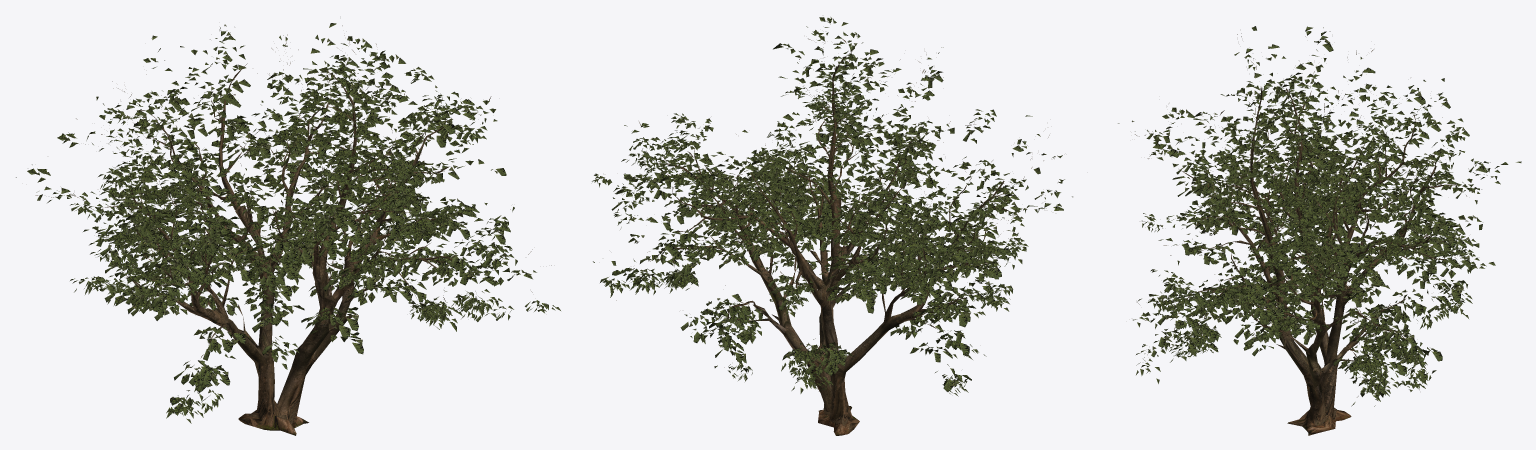
File: jacaranda_tree-far.gltf
3 views of the same model, side by side, from view 1: azimuth 30°, elevation 25°; view 2: azimuth 150°, elevation 25°; view 3: azimuth 270°, elevation 25° (orthographic). The views are drawn at different scales.
Parts seen in each view (by area): view 1: jacaranda_tree_LOD0; view 2: jacaranda_tree_LOD0; view 3: jacaranda_tree_LOD0.
Part boxes in pixels (x1,y1,x2,y2): jacaranda_tree_LOD0: (16,23,560,435); jacaranda_tree_LOD0: (592,17,1072,435); jacaranda_tree_LOD0: (1118,26,1521,435).
Size of the model in its own units: 24.42 by 19.44 by 19.15.
Materials: 3 (3 with a texture image).
